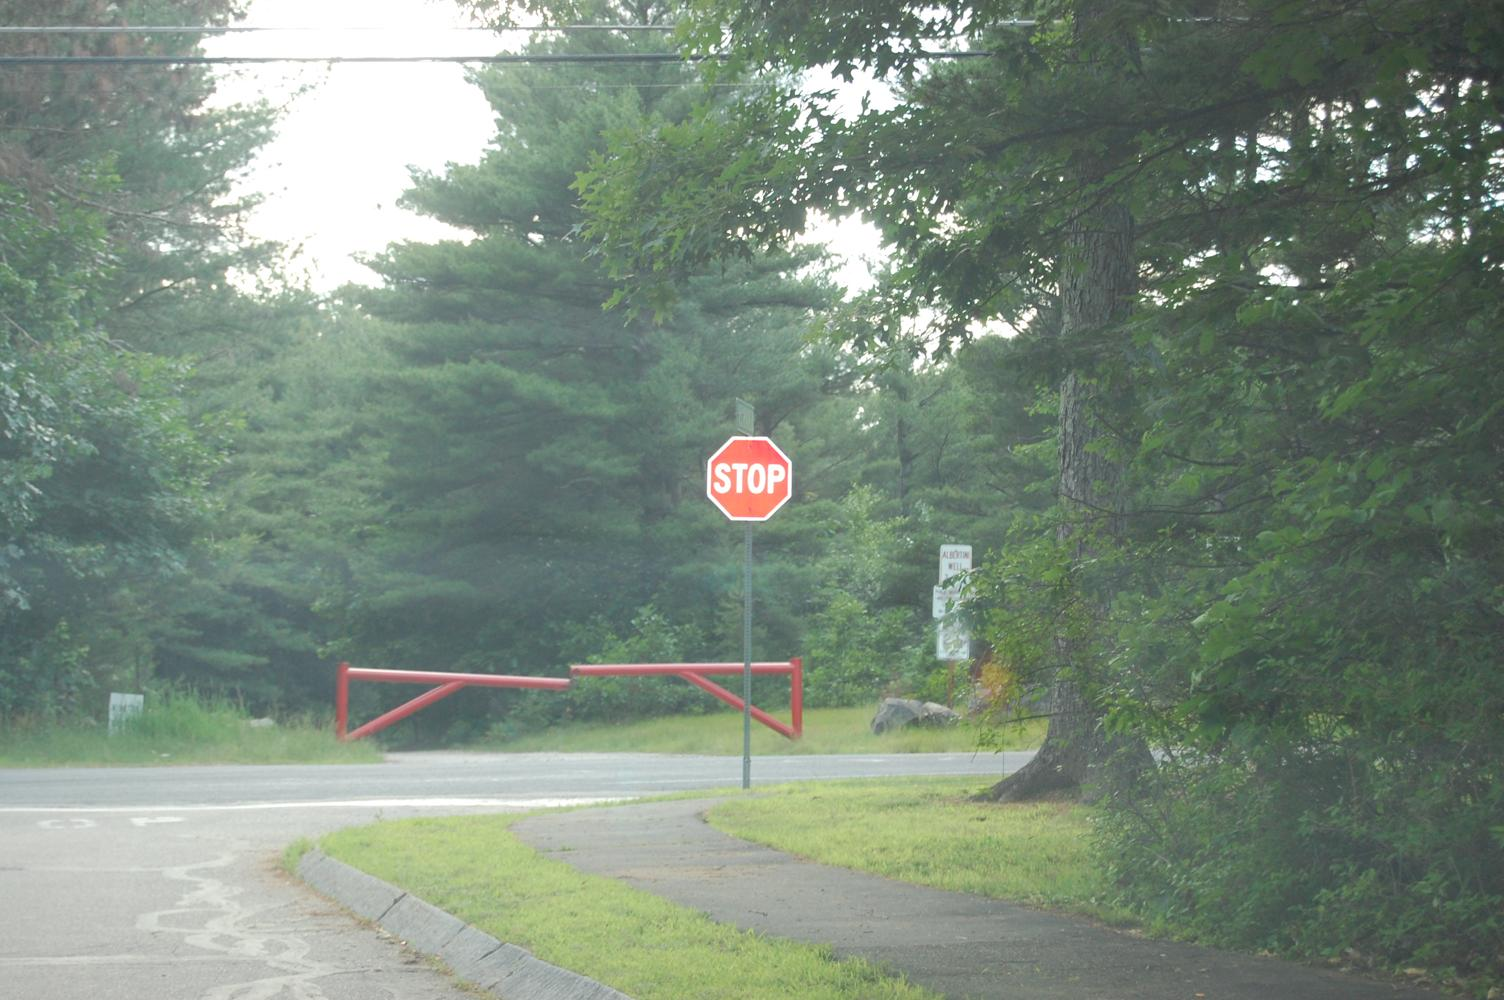stop: (704, 429, 802, 525)
